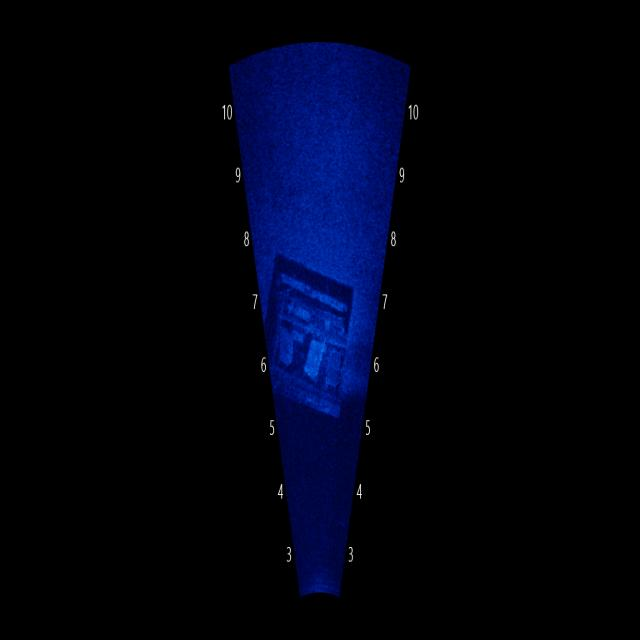square: (247, 245, 365, 422)
